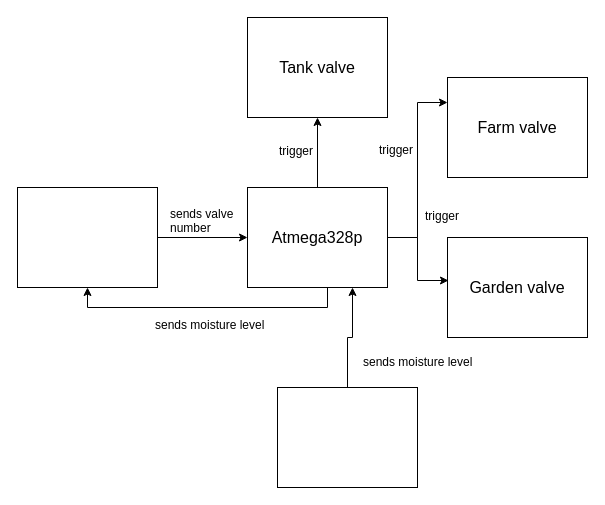
Some shapes in this 605 by 505 pixel diagram are drawn without their labels. The centre of each missing label's shape, as x and y in pixels:
"Moisture Sensor" belongs at [347,437].
"Process Module" belongs at [87,237].
